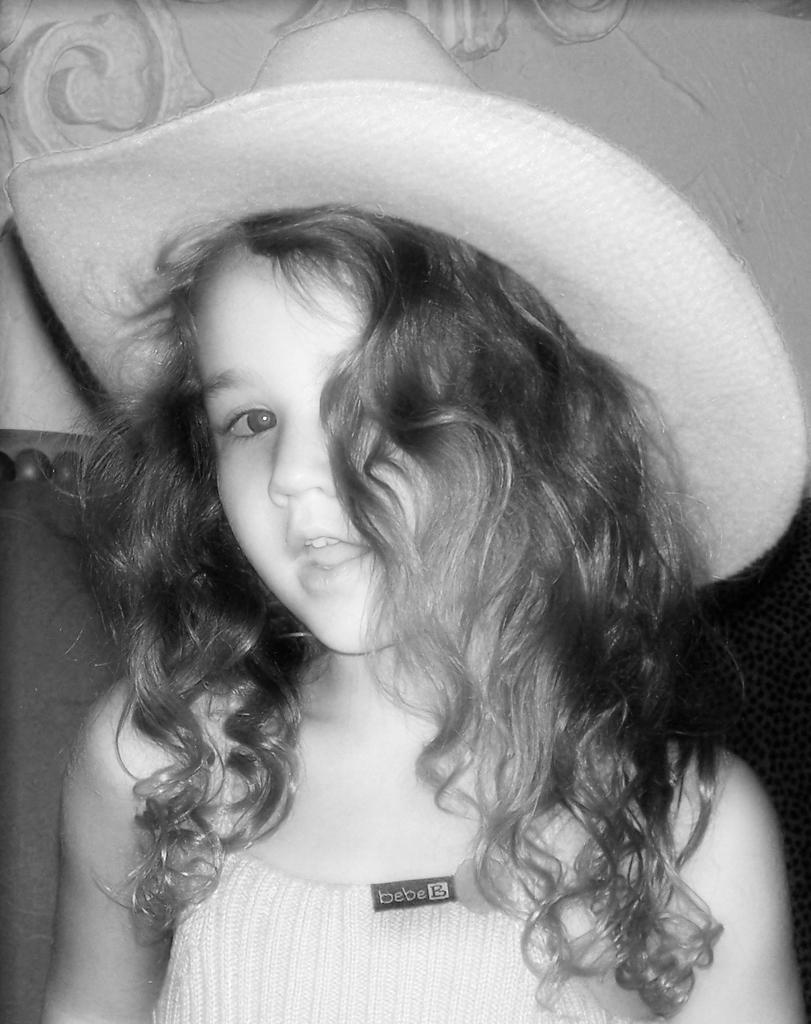Hat: (0, 11, 810, 586)
